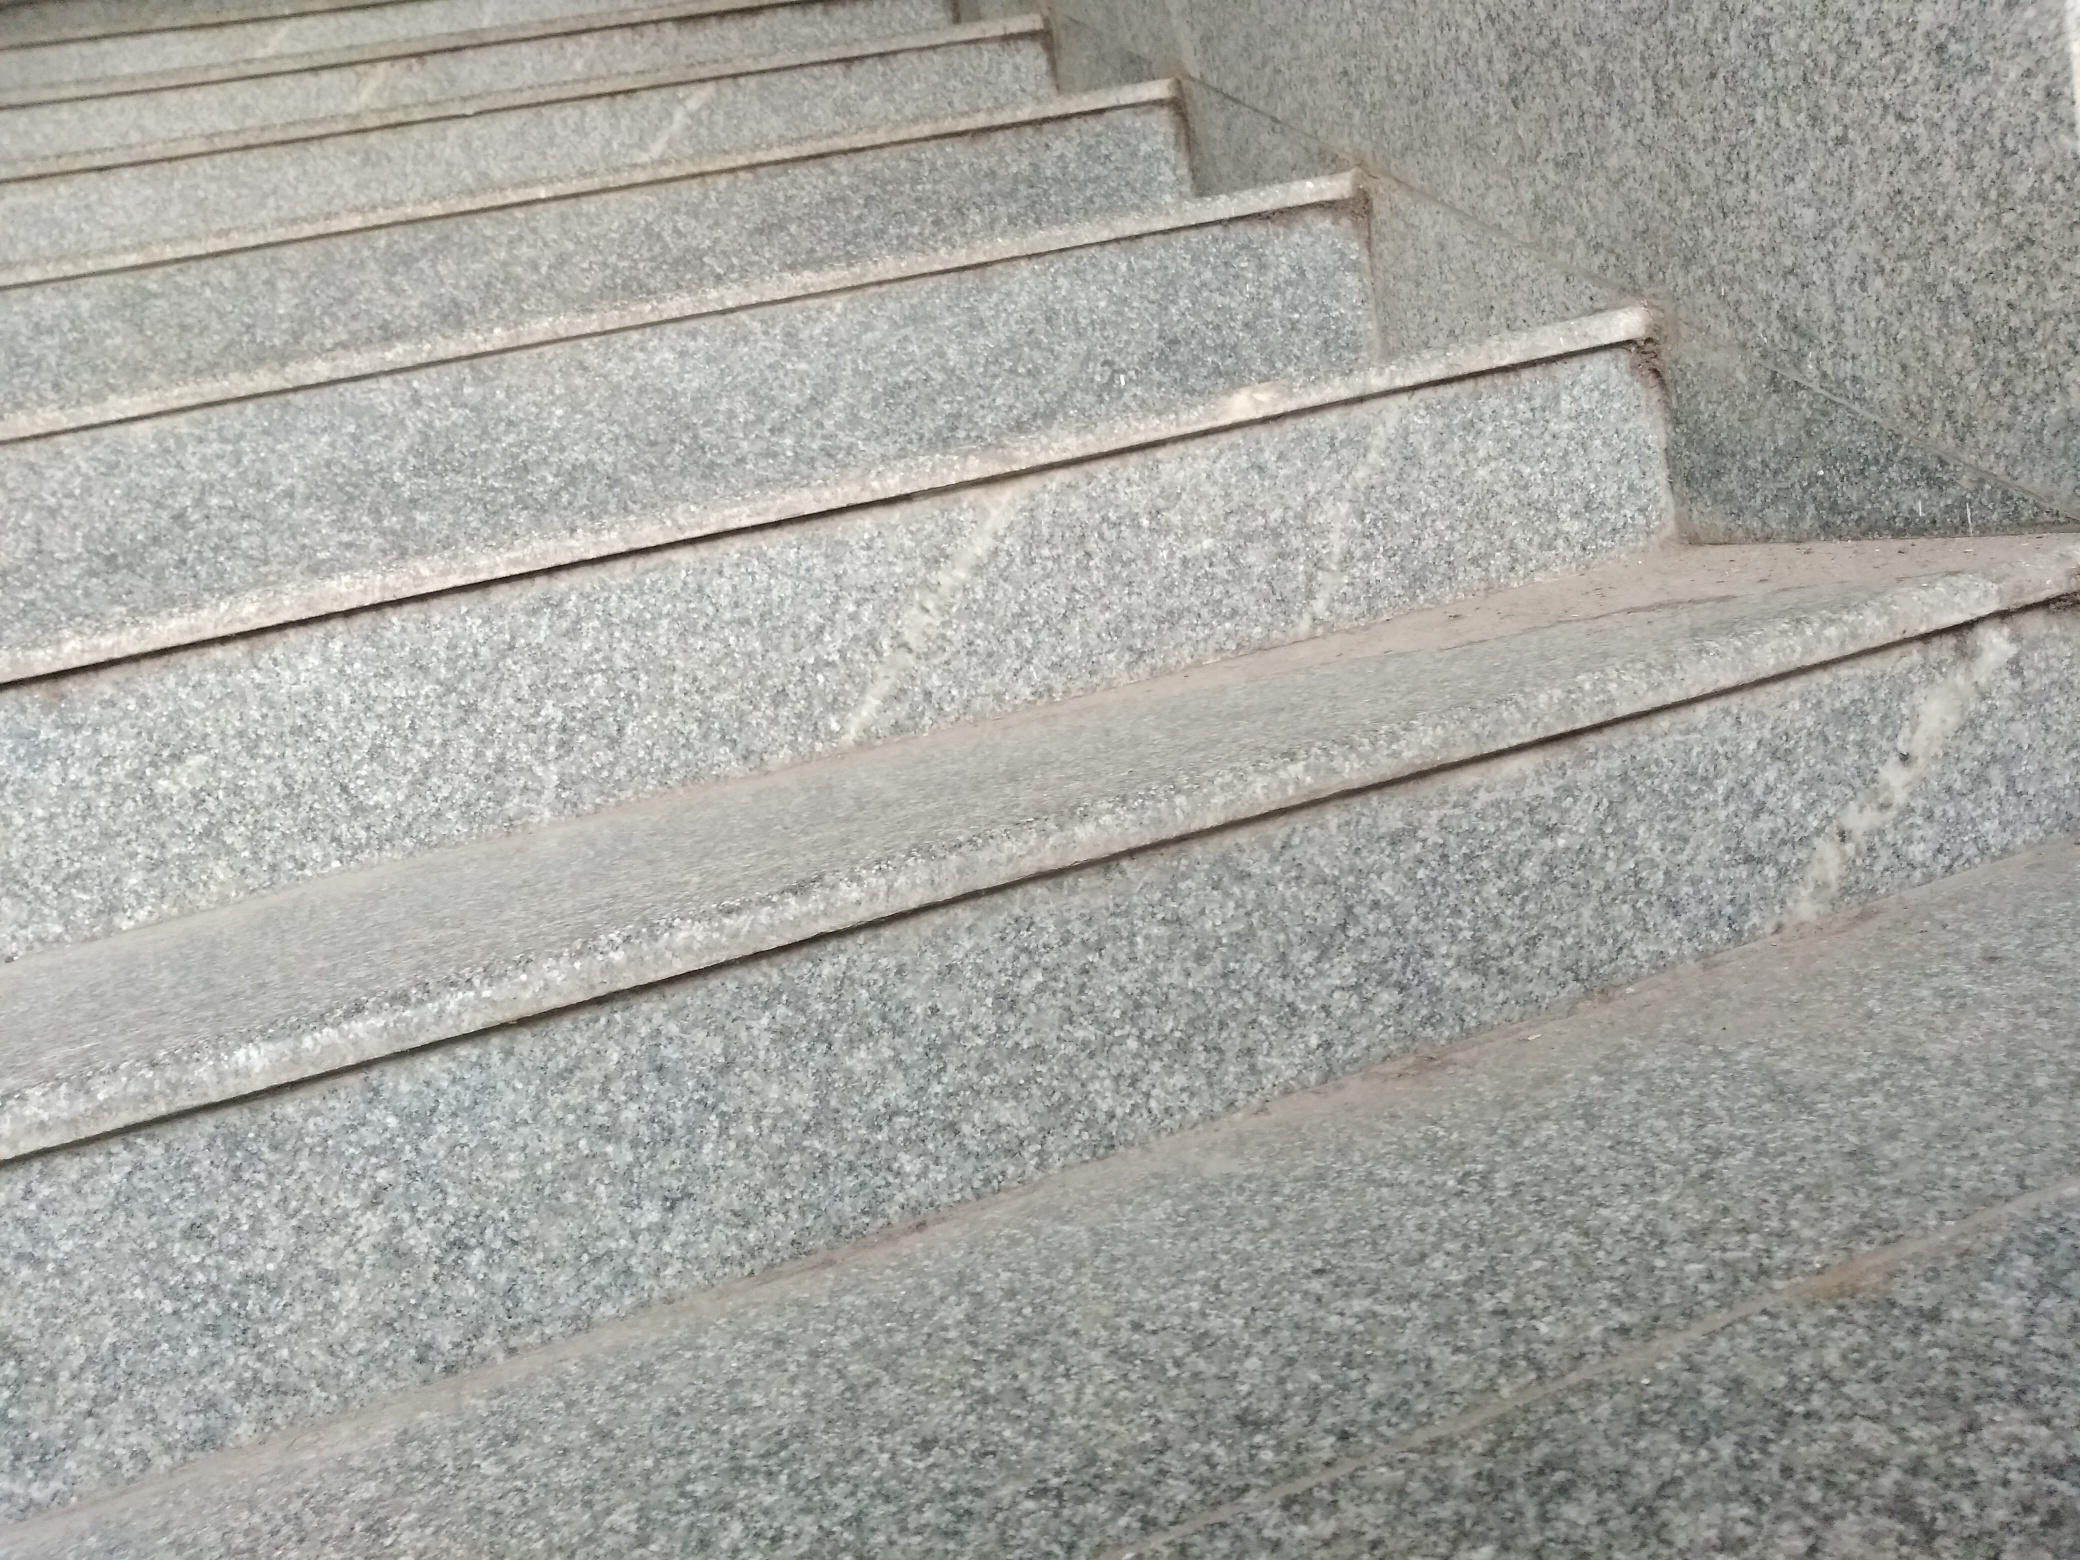stairs_up: (5, 93, 1901, 1114)
